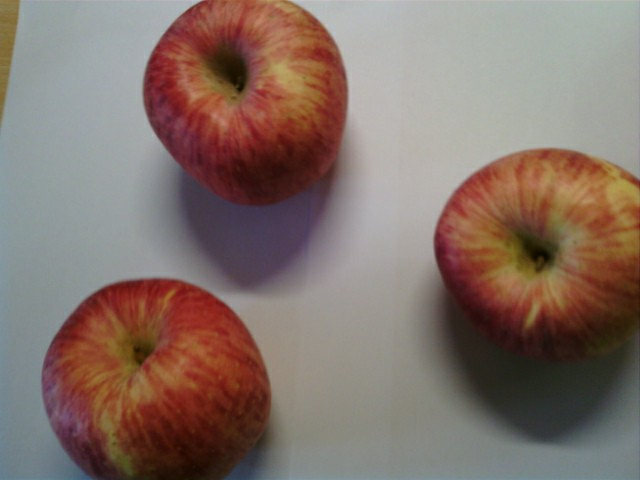normal_apple: (39, 276, 273, 480), (436, 145, 640, 361), (144, 3, 349, 205)
